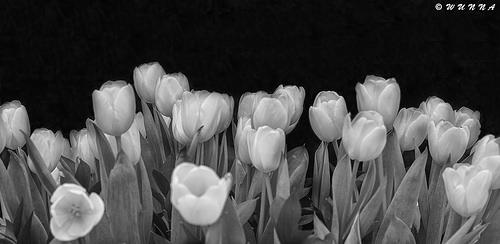tulip: (170, 160, 235, 226), (49, 184, 106, 243), (444, 164, 491, 216), (92, 82, 136, 136), (357, 74, 402, 125), (178, 91, 221, 143), (310, 89, 352, 142), (341, 114, 387, 162), (469, 131, 500, 194), (247, 124, 286, 174), (427, 120, 468, 167), (275, 82, 305, 137), (254, 91, 290, 135), (0, 101, 33, 149), (238, 89, 271, 134), (31, 128, 67, 167), (134, 61, 168, 102), (395, 109, 428, 151), (158, 75, 187, 113)
